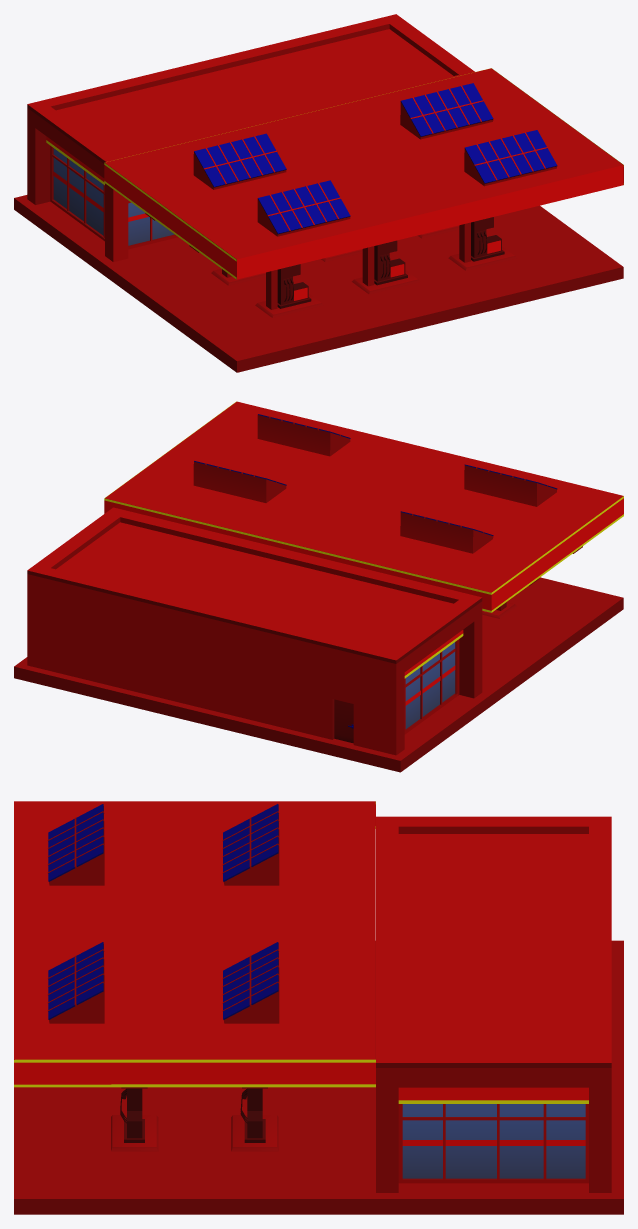
The model's file is buildings-business-gasstation_v1.fbx.
3 views of the same model, one above another, from view 1: azimuth 30°, elevation 25°; view 2: azimuth 150°, elevation 25°; view 3: azimuth 270°, elevation 25° (orthographic). The views are drawn at different scales.
Parts seen in each view (by area): view 1: GasStation_base, GasStation_refl5, GasStation_light, GasStation_windowRefl; view 2: GasStation_base, GasStation_light, GasStation_windowRefl, GasStation_refl5; view 3: GasStation_base, GasStation_light, GasStation_windowRefl, GasStation_refl5.
Part boxes in pixels (x1,y1,x2,y2): GasStation_base: [14, 14, 623, 372]; GasStation_refl5: [194, 83, 557, 234]; GasStation_light: [46, 68, 623, 300]; GasStation_windowRefl: [53, 148, 174, 245]; GasStation_base: [14, 401, 623, 772]; GasStation_light: [104, 401, 623, 678]; GasStation_windowRefl: [405, 642, 455, 728]; GasStation_refl5: [194, 414, 557, 728]; GasStation_base: [14, 801, 623, 1214]; GasStation_light: [14, 801, 588, 1103]; GasStation_windowRefl: [402, 1104, 585, 1178]; GasStation_refl5: [48, 804, 278, 1019].
Bounding box in the file's own units: 23.4 × 7.98 × 23.33.
